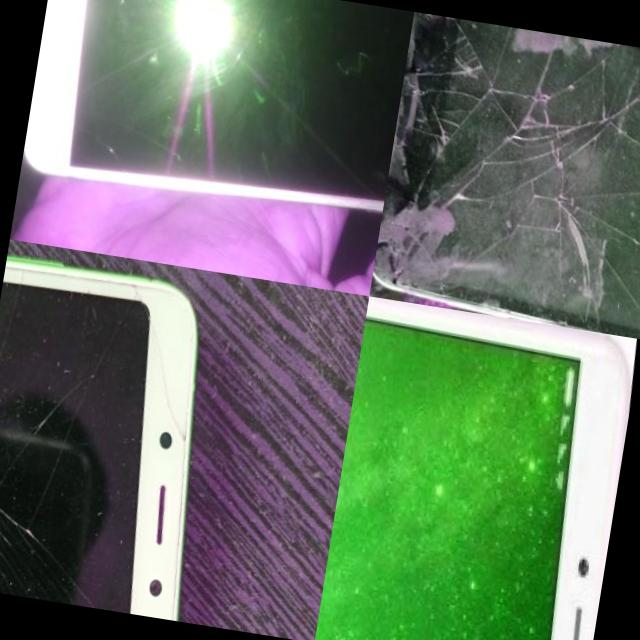screen crack: (0, 238, 238, 622), (368, 10, 640, 338)
